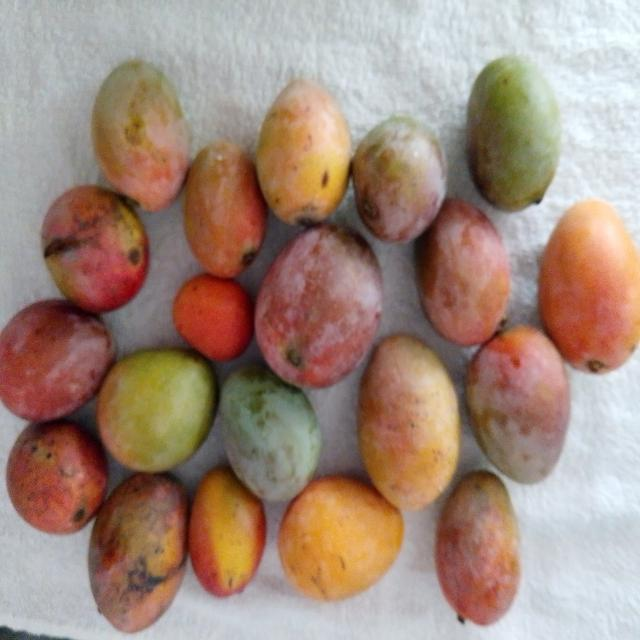mango: (253, 224, 387, 389), (539, 196, 640, 378), (365, 335, 464, 512), (276, 474, 410, 602), (461, 52, 558, 212), (40, 181, 154, 315), (218, 369, 332, 503), (92, 58, 192, 210), (415, 194, 516, 344), (96, 356, 222, 471), (258, 78, 353, 228), (434, 468, 522, 626), (351, 113, 451, 243), (181, 140, 270, 278)
